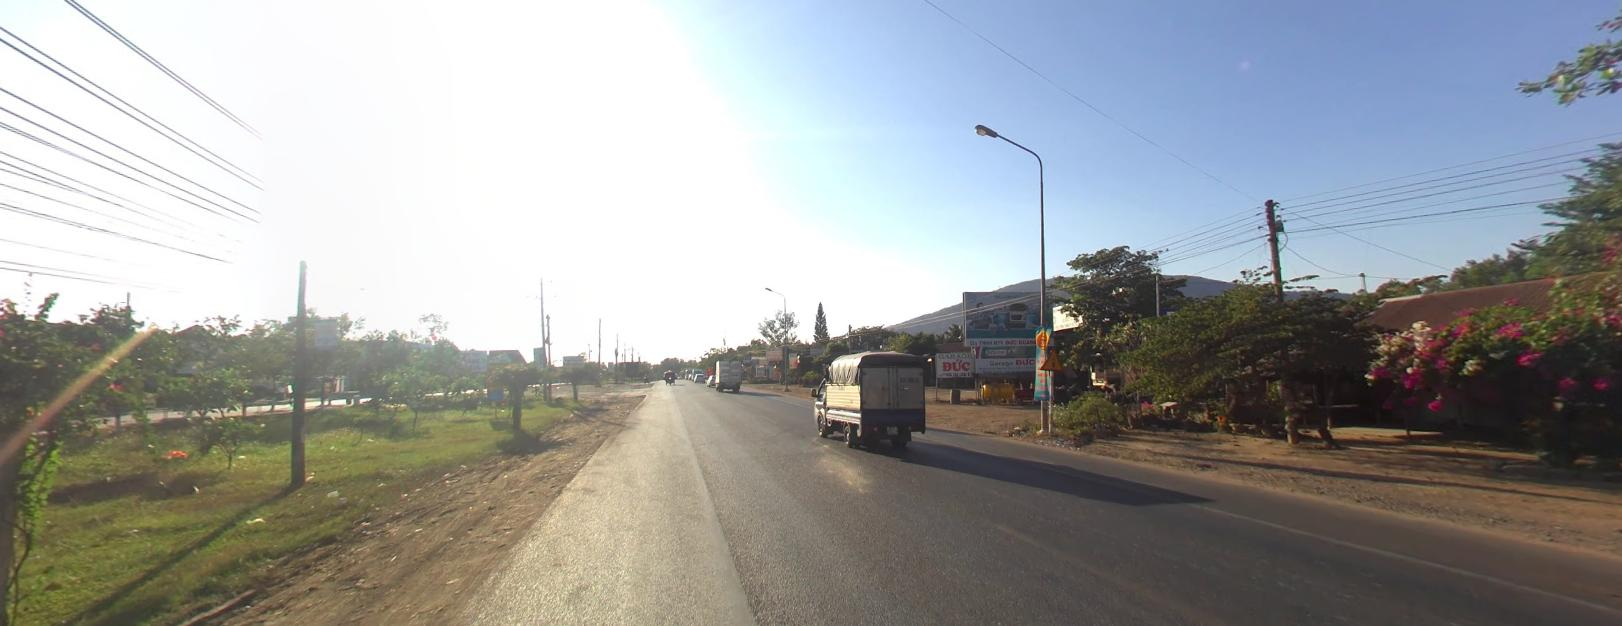Nguy hiem: (1039, 346, 1064, 369)
